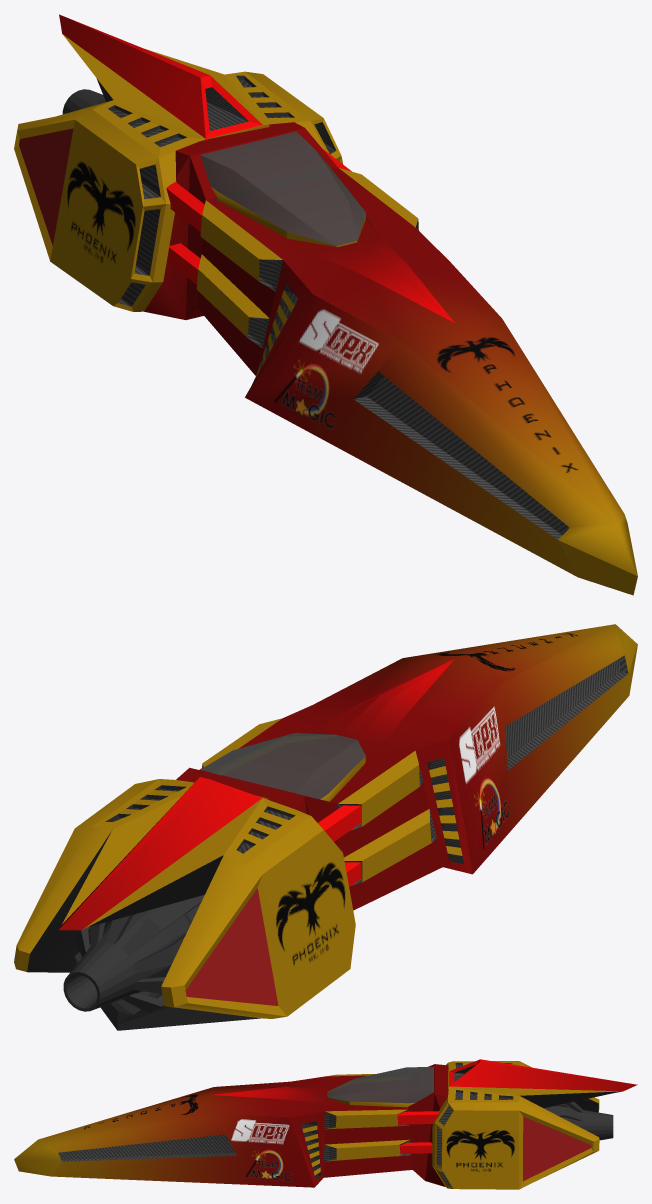
The model's file is Phoenix_ship.fbx.
3 views of the same model, one above another, from view 1: azimuth 30°, elevation 25°; view 2: azimuth 150°, elevation 25°; view 3: azimuth 270°, elevation 25° (orthographic). The views are drawn at different scales.
Parts seen in each view (by area): view 1: polySurface14; view 2: polySurface14; view 3: polySurface14.
Part boxes in pixels (left/top/right/bottom): polySurface14: left=14, top=14, right=637, bottom=595; polySurface14: left=14, top=624, right=637, bottom=1030; polySurface14: left=14, top=1059, right=637, bottom=1189.
Size of the model in its own units: 5.93 by 4.9 by 25.01.
Materials: 3 (1 with a texture image).
